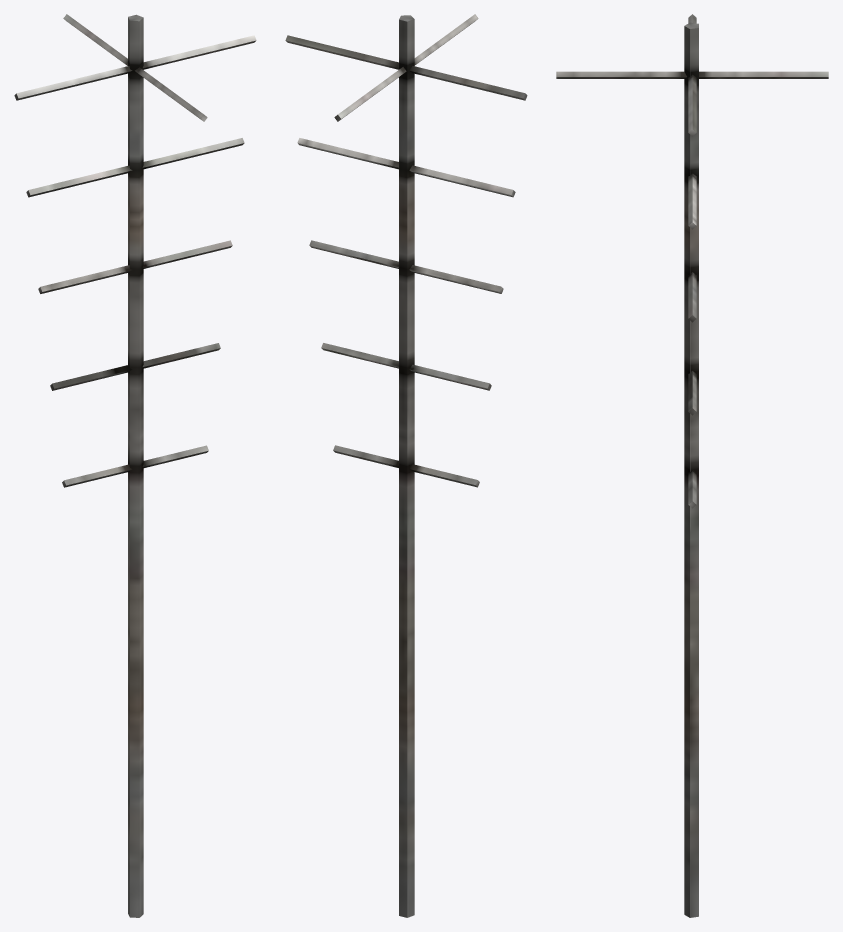
Rendered from roof_antenna.glb.
3 renders of one model, left to right at view 1: azimuth 30°, elevation 25°; view 2: azimuth 150°, elevation 25°; view 3: azimuth 270°, elevation 25°, orthographic.
Parts seen in each view (by area): view 1: roof_antenna; view 2: roof_antenna; view 3: roof_antenna.
Part boxes in pixels (left/top/right/bottom): roof_antenna: left=14, top=14, right=256, bottom=917; roof_antenna: left=285, top=14, right=527, bottom=917; roof_antenna: left=556, top=14, right=828, bottom=917.
Bounding box in the file's own units: 1 × 3.6 × 1.
Materials: 1 (1 with a texture image).
